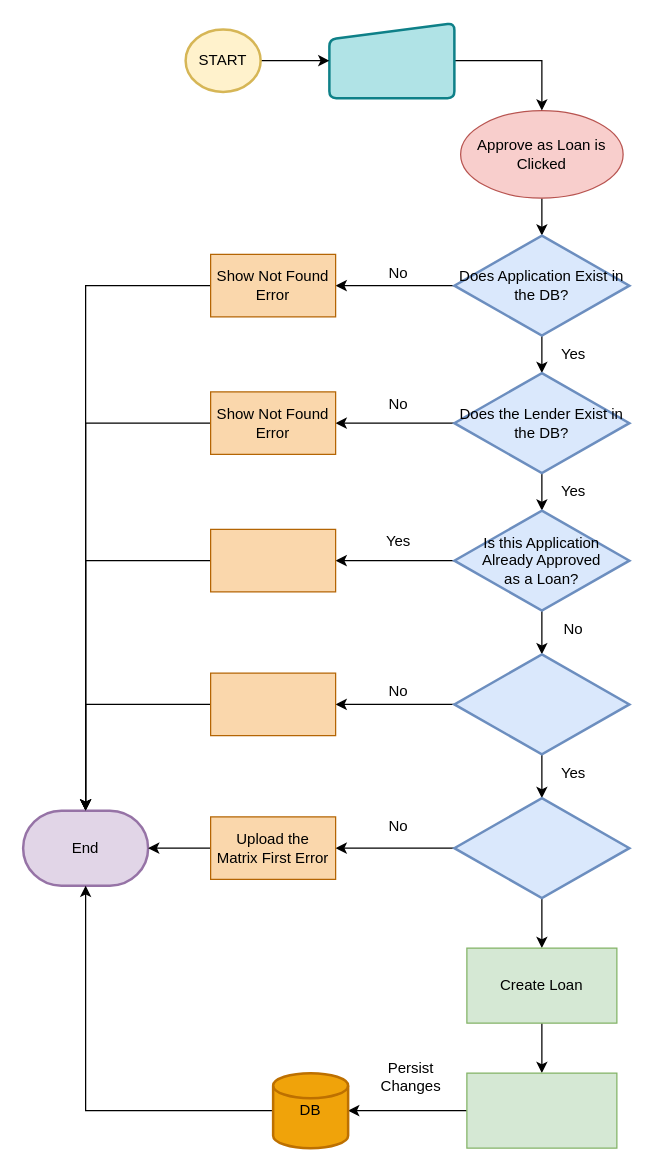
Image size: 651x1170. Some labels were removed from this diagram. The shapes that lost their labels are listed below. From the top down, each one's box as (x1, y1, x2, y2) in pixels, then its label:
(328, 21, 455, 99): Select Application & Chose a Lender
(209, 528, 336, 592): Show Already a Loan Error
(209, 672, 336, 736): Show Not Eligible Error
(452, 652, 630, 755): Is Selected Lender Eligible?
(452, 796, 630, 899): Has the Lender Matrix been Uploaded for the given Lender & Product?
(466, 1072, 617, 1148): Assign Status
